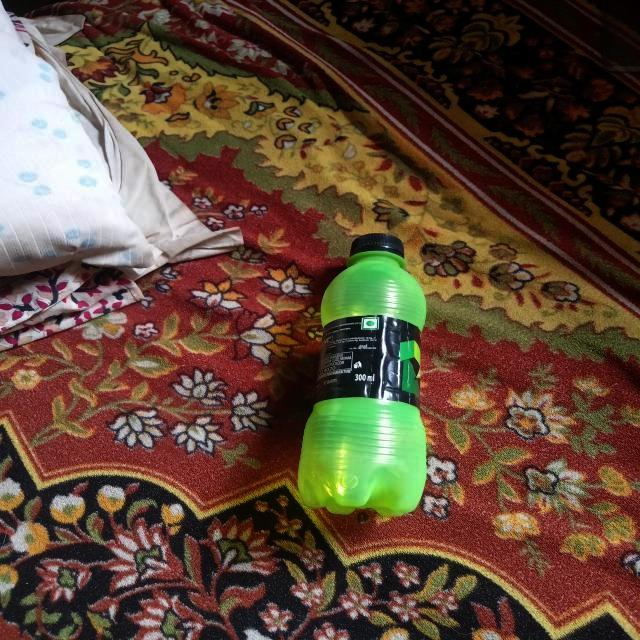bottle: (297, 233, 427, 517)
